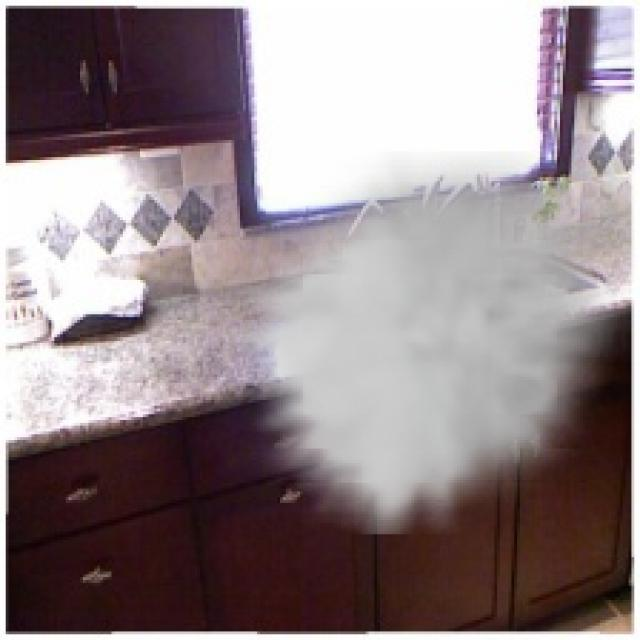smoke: (226, 152, 631, 534)
